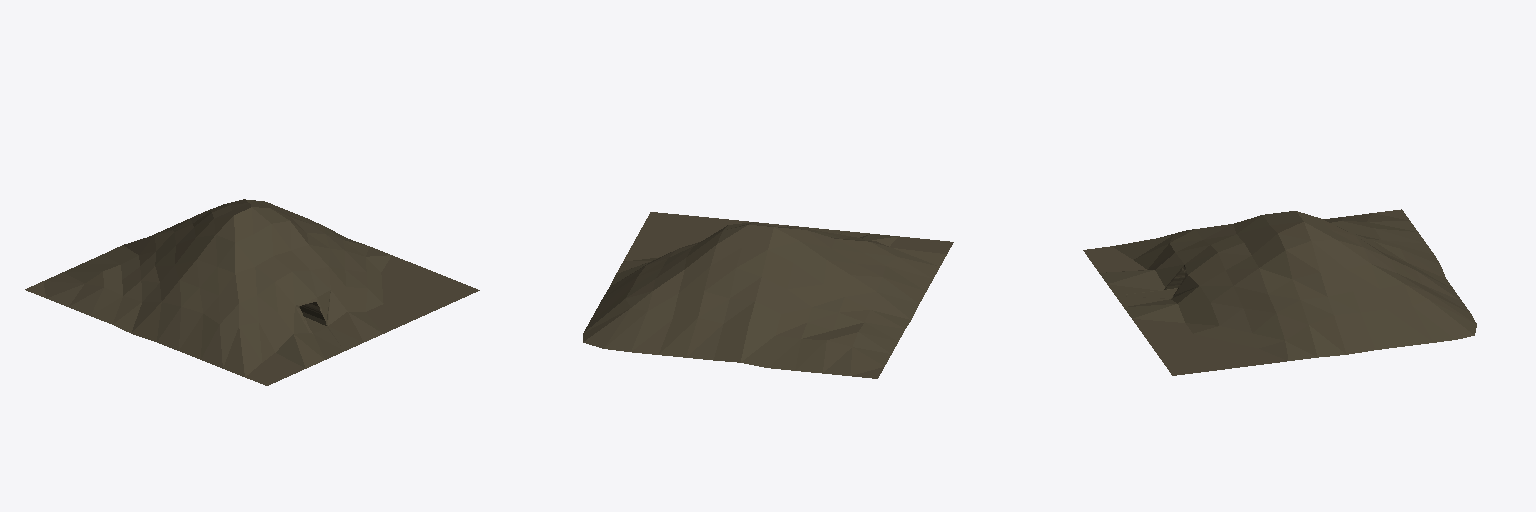
Rendered from montagne.obj.
3 renders of one model, left to right at view 1: azimuth 30°, elevation 25°; view 2: azimuth 150°, elevation 25°; view 3: azimuth 270°, elevation 25°, orthographic.
Visible parts, largest first — view 1: montagne; view 2: montagne; view 3: montagne.
Part boxes in pixels (bbox=[...]): montagne: bbox=[25, 199, 479, 385]; montagne: bbox=[583, 212, 953, 378]; montagne: bbox=[1083, 209, 1476, 375].
Size of the model in its own units: 136 by 29.1 by 136.